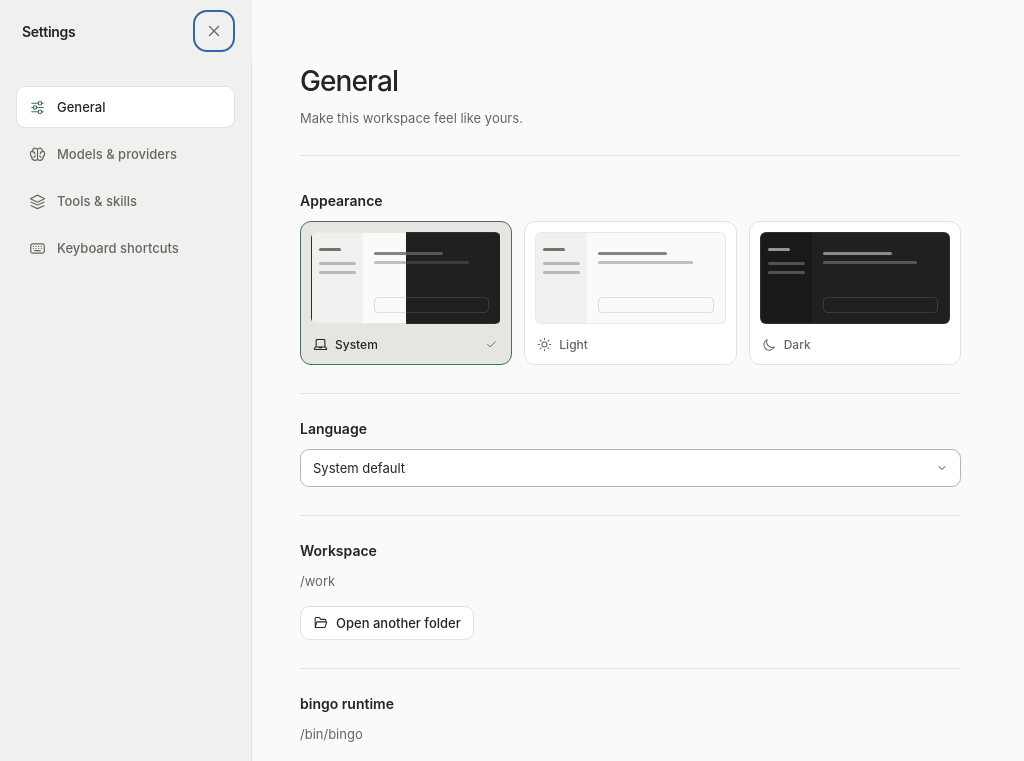
Test: keeps navigation and theme previews accessible without decorative names
Expected: the buttons read "System", "Light", "Dark", in this order, x1=300 y1=221 x2=512 y2=365; x1=524 y1=221 x2=737 y2=365; x1=749 y1=221 x2=961 y2=365
What coordinates should you click on to do the following:
click the button "Keyboard shortcuts"
I would click on:
 (126, 248)
Its box is x1=16 y1=227 x2=235 y2=269.
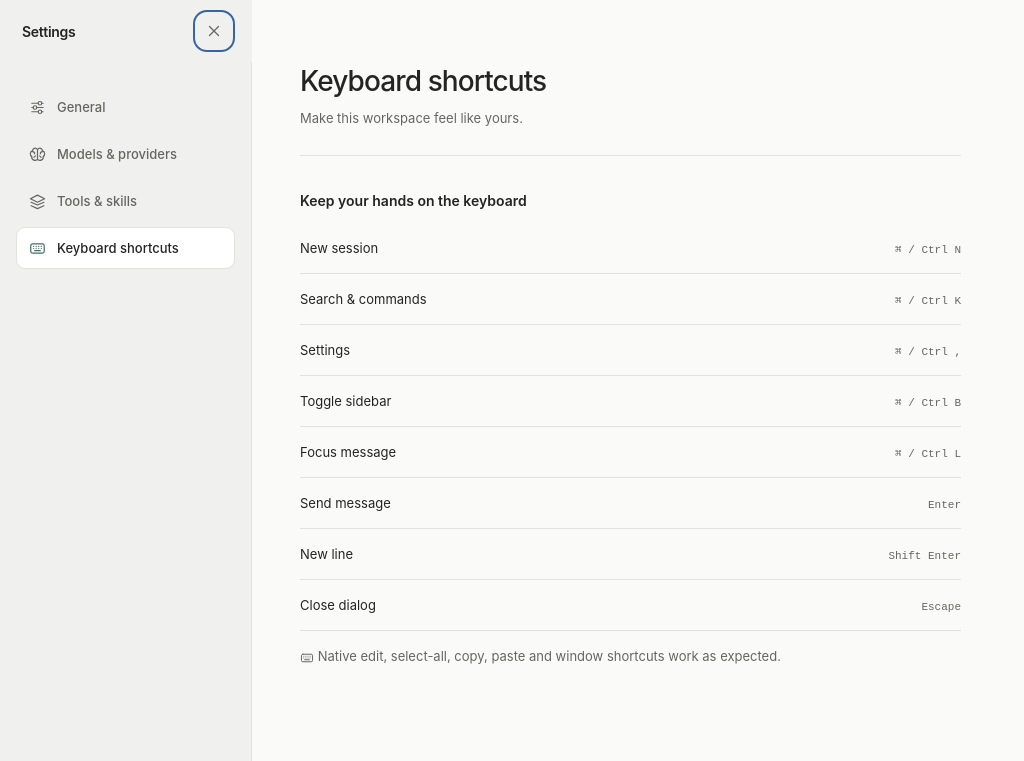
Now the heading "Keyboard shortcuts" is shown, box x1=300 y1=64 x2=546 y2=98
